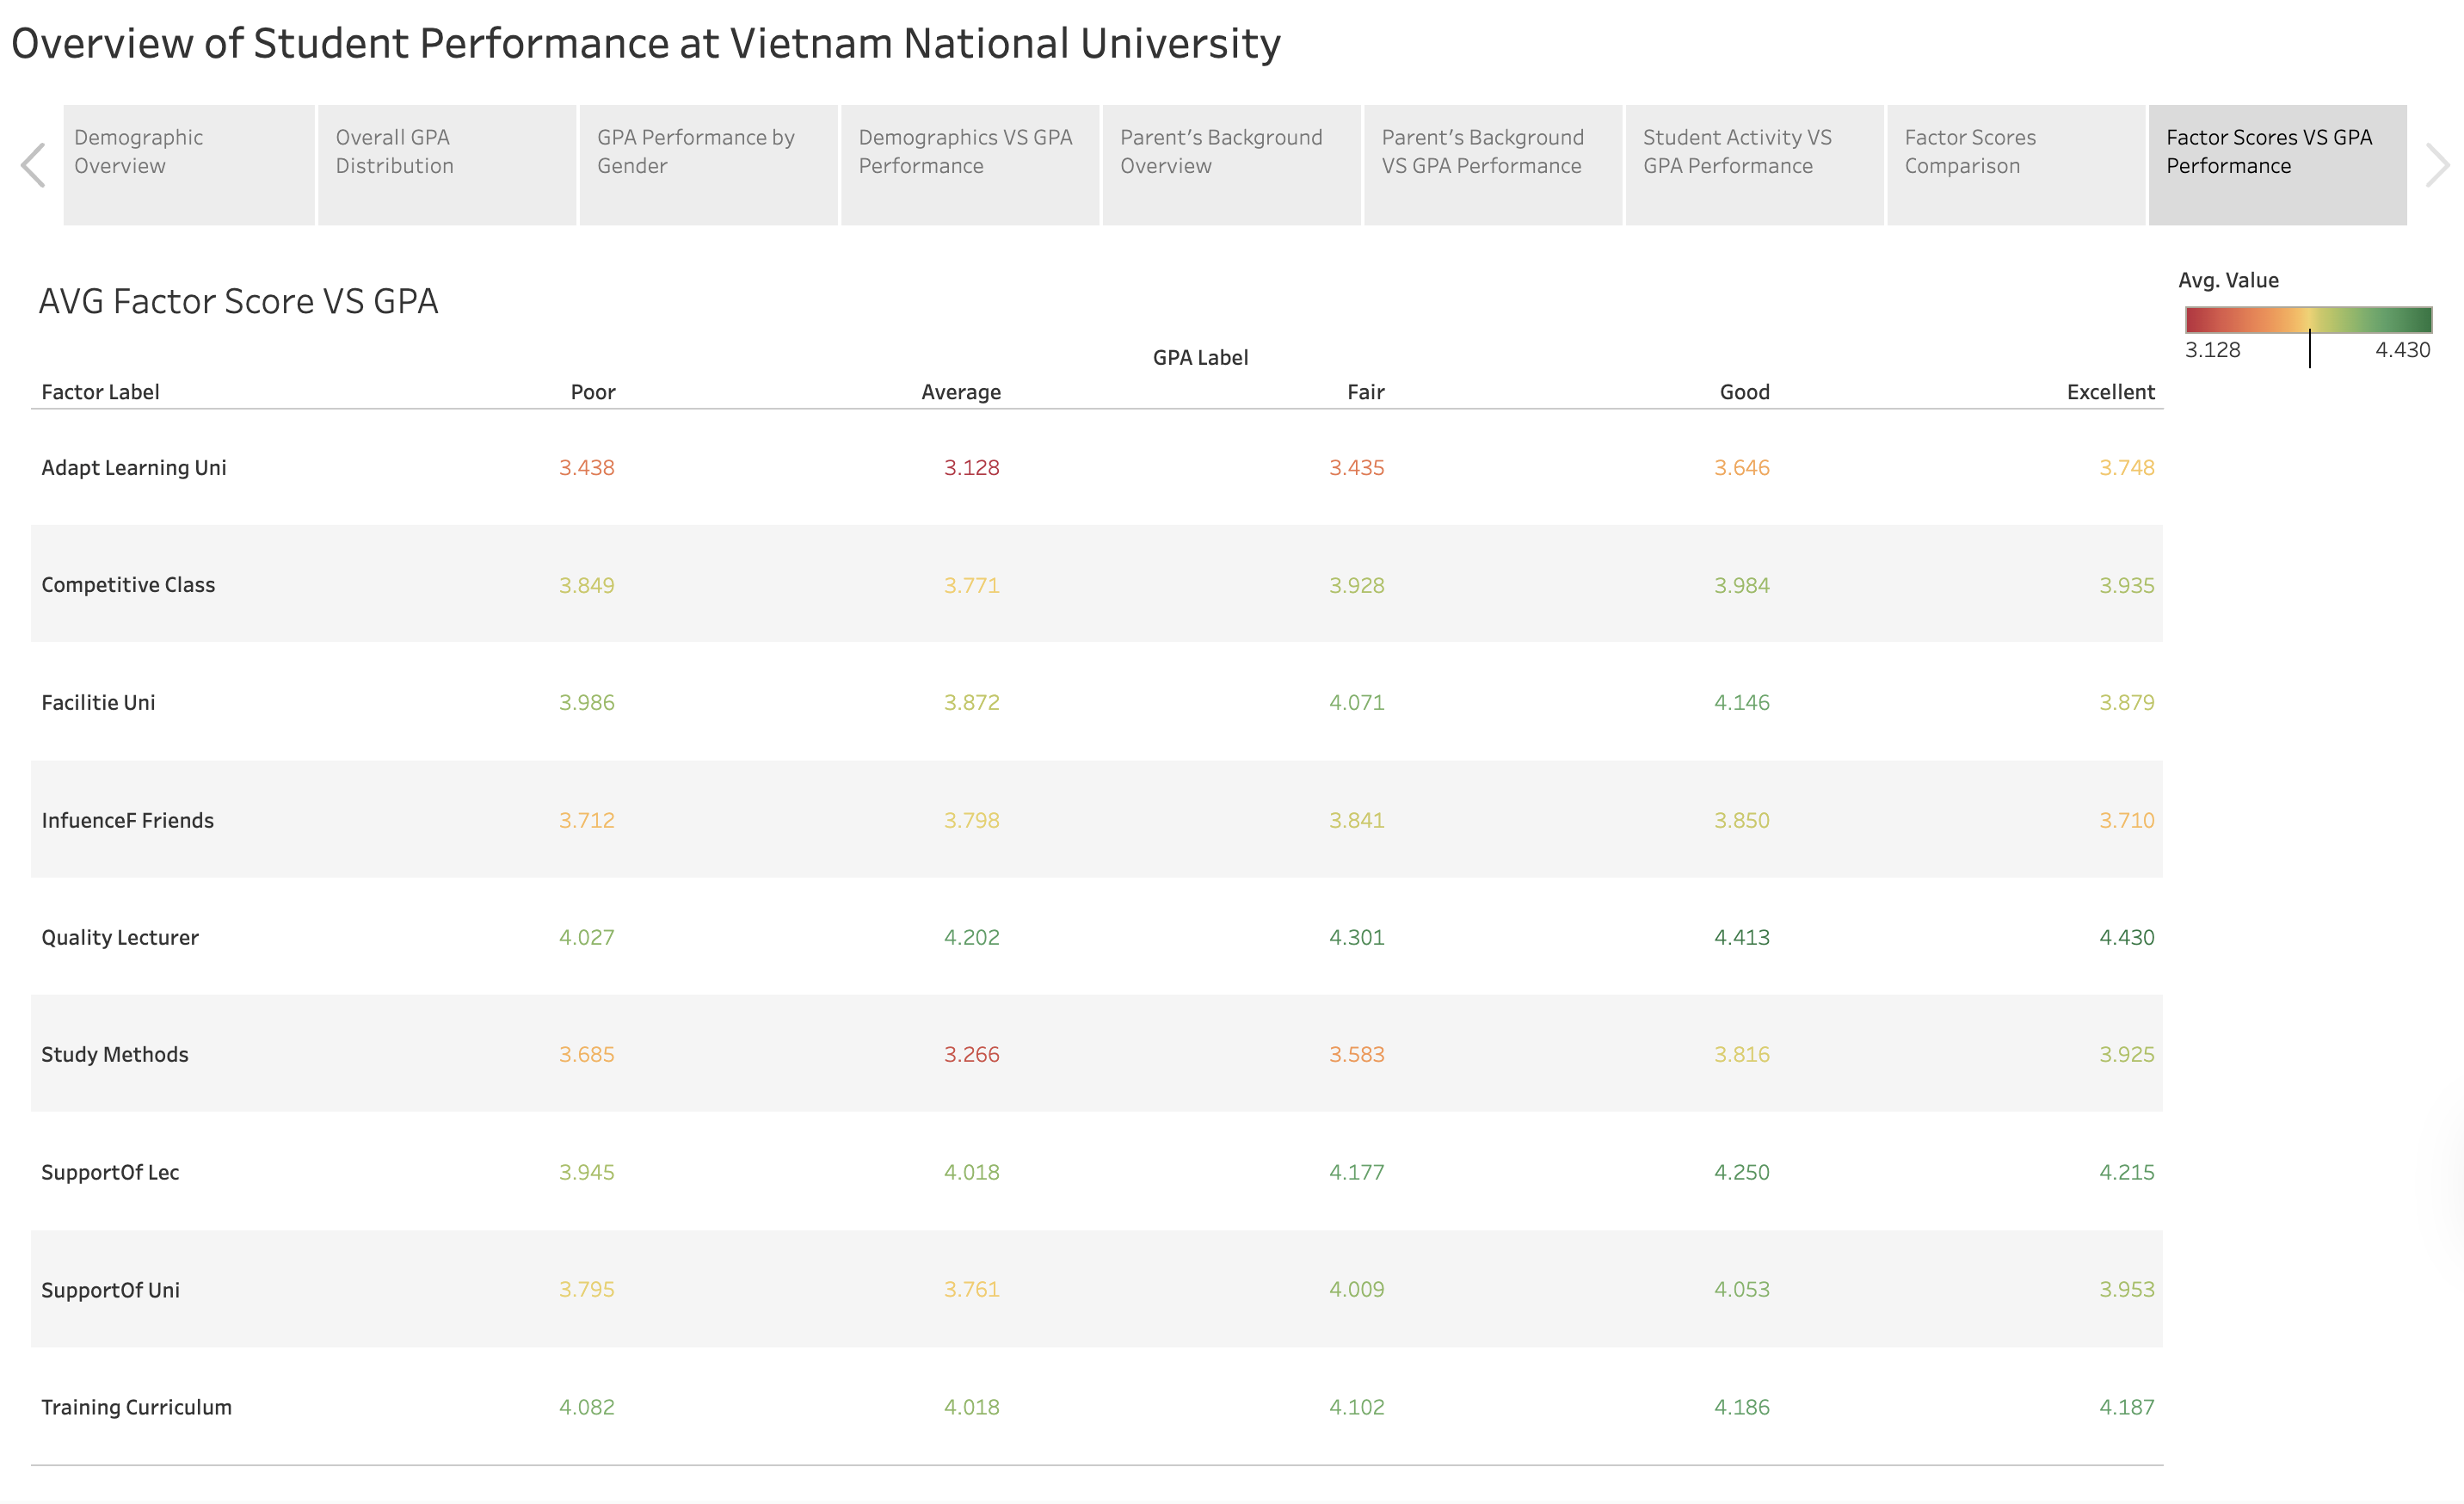

What the dashboard file says about the page in this screenshot:
{"tool":"tableau","page":{"name":"AVG Factor Scores VS GPA","canvas":[1000,1000],"units":"permille","ordinal":0},"visuals":[{"type":"worksheet","title":"AVG Factor Score VS GPA","mark":"Automatic","rows":["Calculation_0564434713718805"],"cols":["Calculation_0564434691989520"],"box":[5.7,11.5,875.5,977]},{"type":"legend","title":"AVG Factor Score VS GPA","param":"[federated.05jevnn1tfsfa413nsuds1rxwbeq].[avg:Pivot Field Values:qk]","box":[881.2,11.5,113.2,93.3]}]}

Visuals, with their boxes on the dashboard's canvas, which has no fixed pixel size, in thousandths of its width and height (x1, y1, x2, y2). These are canvas units, not pixel positions in the 2464x1504 screenshot, which may show the page scaled, cropped or inside an application window:
"AVG Factor Score VS GPA" worksheet: (6, 12, 881, 988)
"AVG Factor Score VS GPA" legend: (881, 12, 994, 105)
